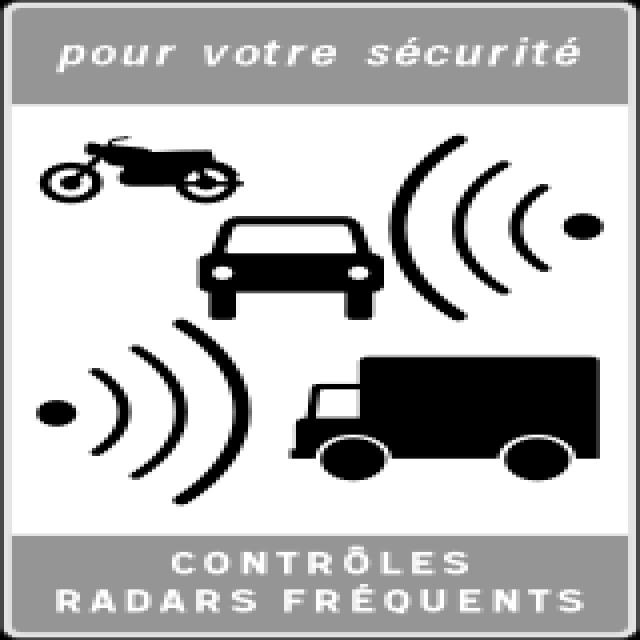radar: (11, 3, 640, 640)
